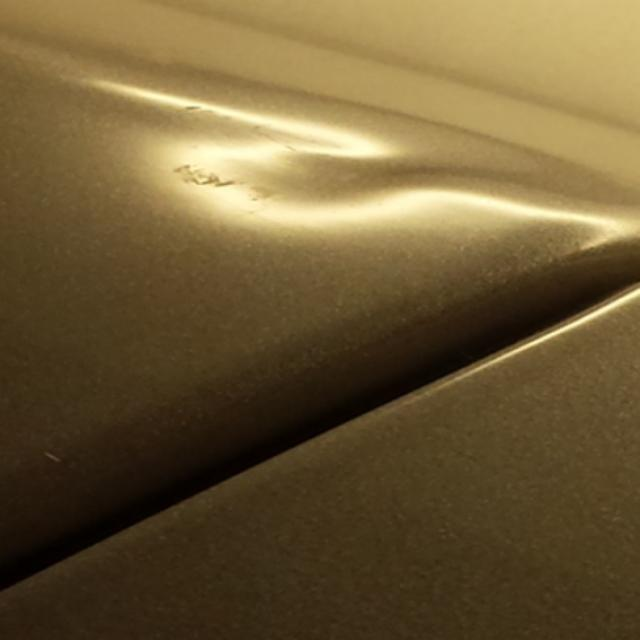dents: (166, 98, 538, 246)
